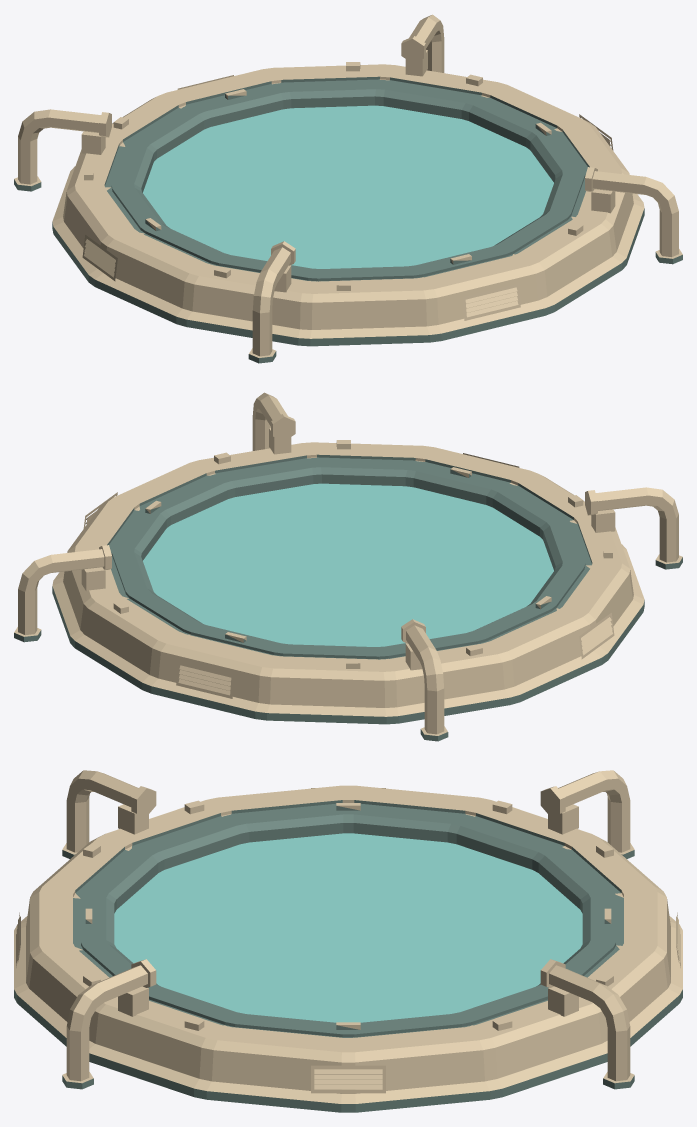
File: Pit_Ring.glb
The picture shows the model from 3 angles, top to bottom: view 1: azimuth 30°, elevation 25°; view 2: azimuth 150°, elevation 25°; view 3: azimuth 270°, elevation 25°; orthographic projection. The views are drawn at different scales.
Visible parts, largest first — view 1: Pit_Ring; view 2: Pit_Ring; view 3: Pit_Ring.
Boxes of the visible parts, <box> form: Pit_Ring: <box>14,14,682,363</box>; Pit_Ring: <box>14,392,682,741</box>; Pit_Ring: <box>14,770,682,1112</box>.
Size of the model in its own units: 10 by 1.53 by 9.79.
